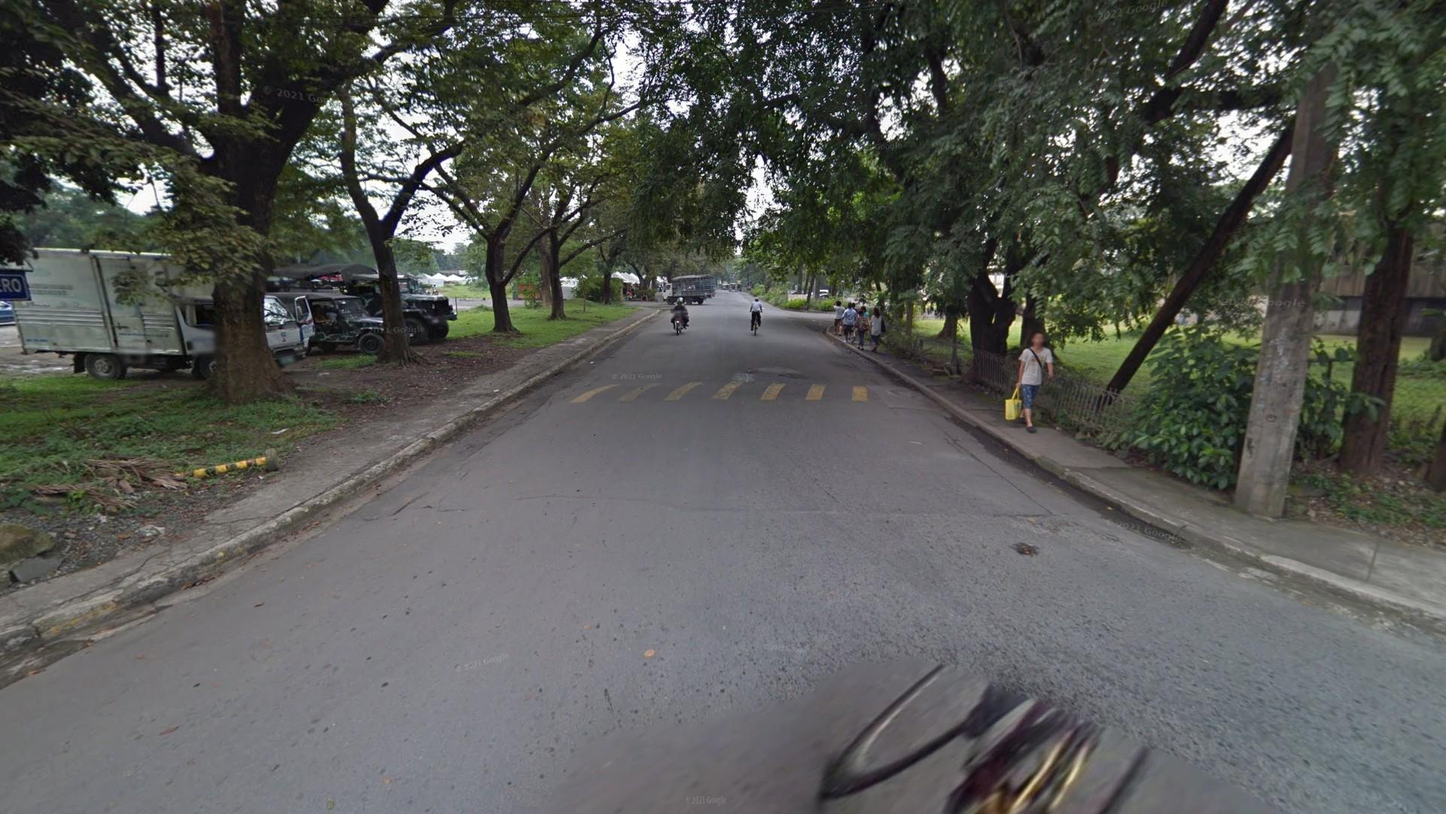cyclist: (749, 297, 763, 336)
pedestrian: (1015, 331, 1055, 433), (870, 307, 884, 354), (854, 309, 870, 350), (840, 302, 854, 343), (832, 300, 845, 336), (857, 306, 869, 344), (848, 301, 858, 338)
